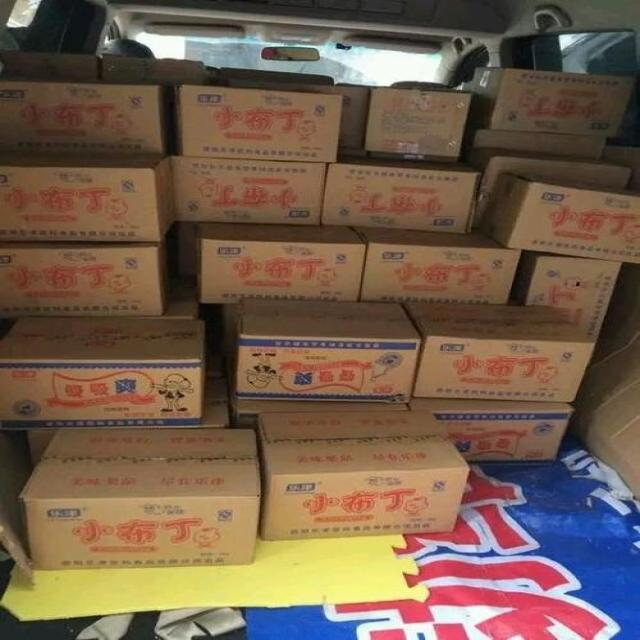box: (20, 427, 257, 571), (256, 410, 470, 541), (0, 316, 207, 431), (406, 293, 598, 403), (221, 298, 421, 403), (1, 153, 175, 243), (486, 171, 640, 264), (1, 239, 174, 318), (198, 224, 365, 305), (180, 85, 346, 166), (470, 152, 631, 231), (356, 227, 522, 303), (320, 155, 479, 234), (225, 75, 371, 158), (0, 82, 166, 155), (468, 69, 637, 139), (410, 397, 577, 462), (172, 156, 328, 225), (515, 251, 623, 342), (365, 86, 472, 163), (77, 377, 233, 429), (23, 283, 197, 320), (232, 399, 411, 428), (465, 127, 609, 162), (3, 49, 101, 83), (100, 56, 207, 85), (221, 66, 334, 83), (603, 145, 640, 193), (175, 224, 200, 284), (29, 430, 57, 468)
